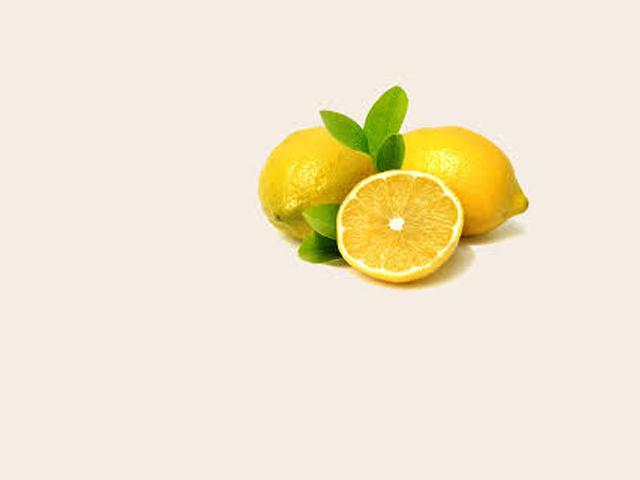lemon: (249, 115, 390, 253)
